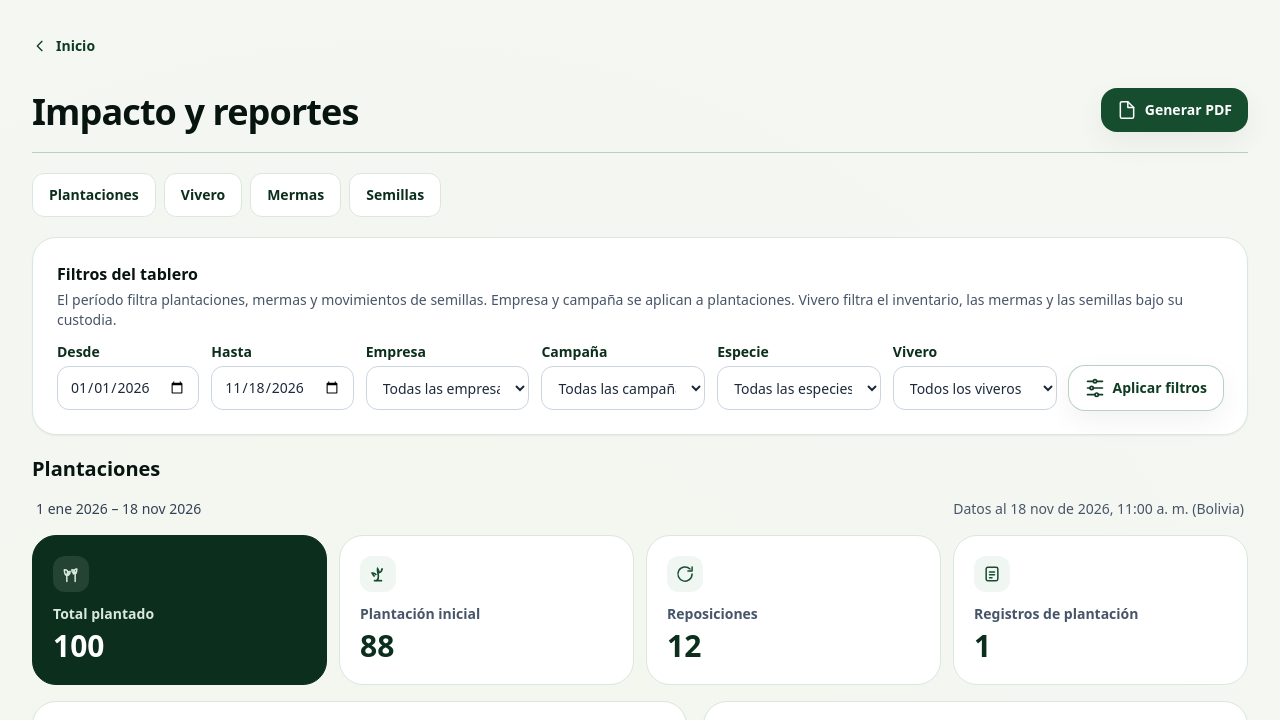
Test: Impacto y reportes de plantaciones › aplica período, vivero y especie a las consultas que corresponden
Type "2026-03-01" into the date field labelled "Desde" at (128, 388), box x1=57 y1=366 x2=199 y2=410
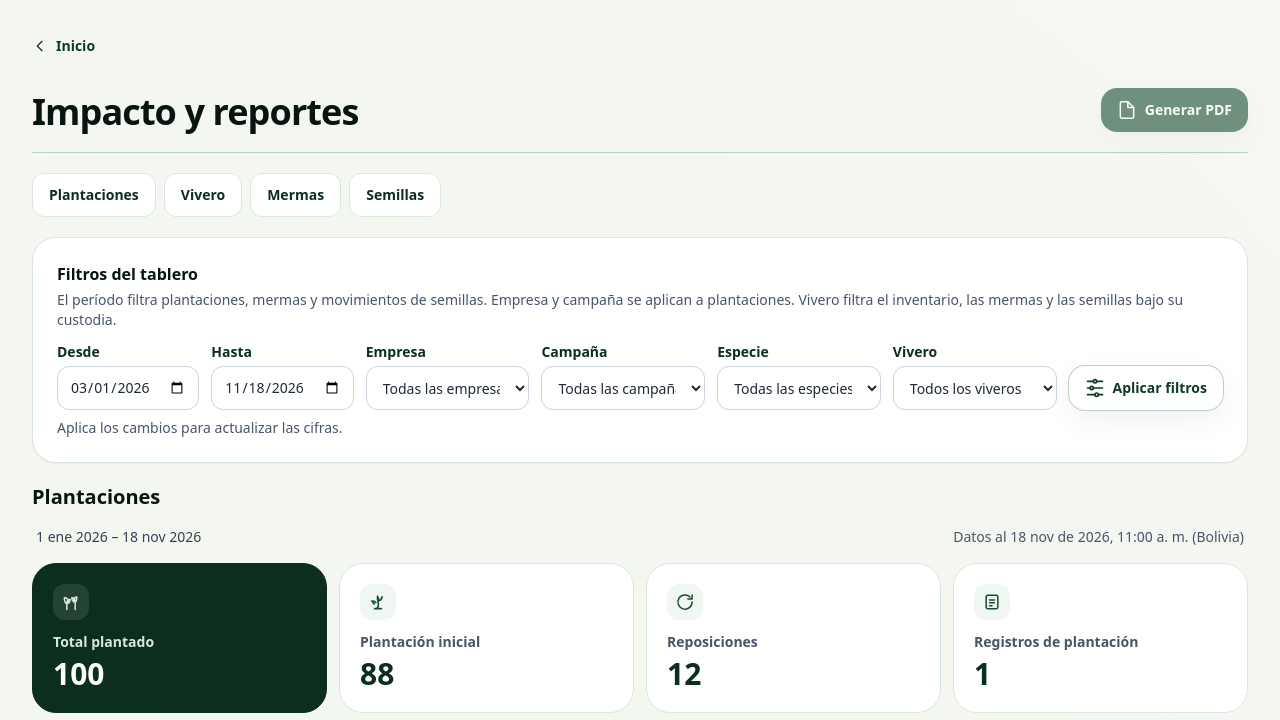
Click the button "Aplicar filtros" at (1146, 388), box x1=1068 y1=366 x2=1223 y2=410
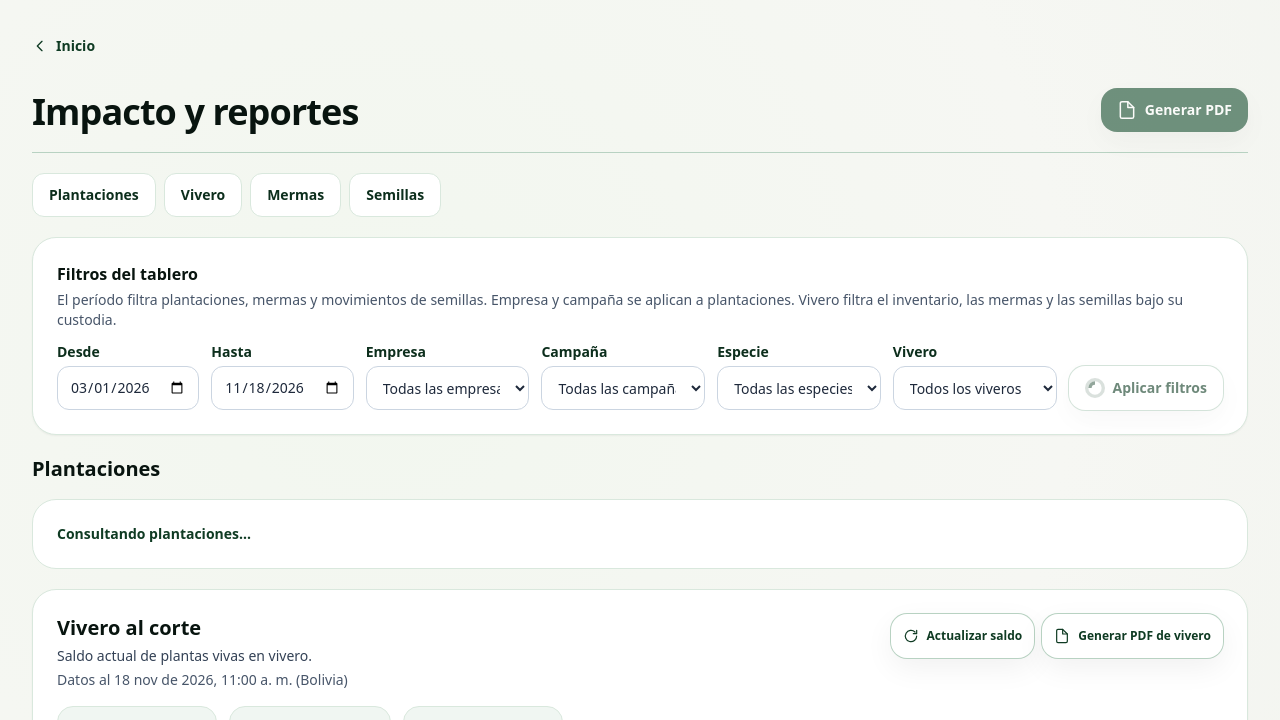
Select "Vivero Norte" in the dropdown labelled "Vivero" at (975, 388), box x1=893 y1=366 x2=1056 y2=410
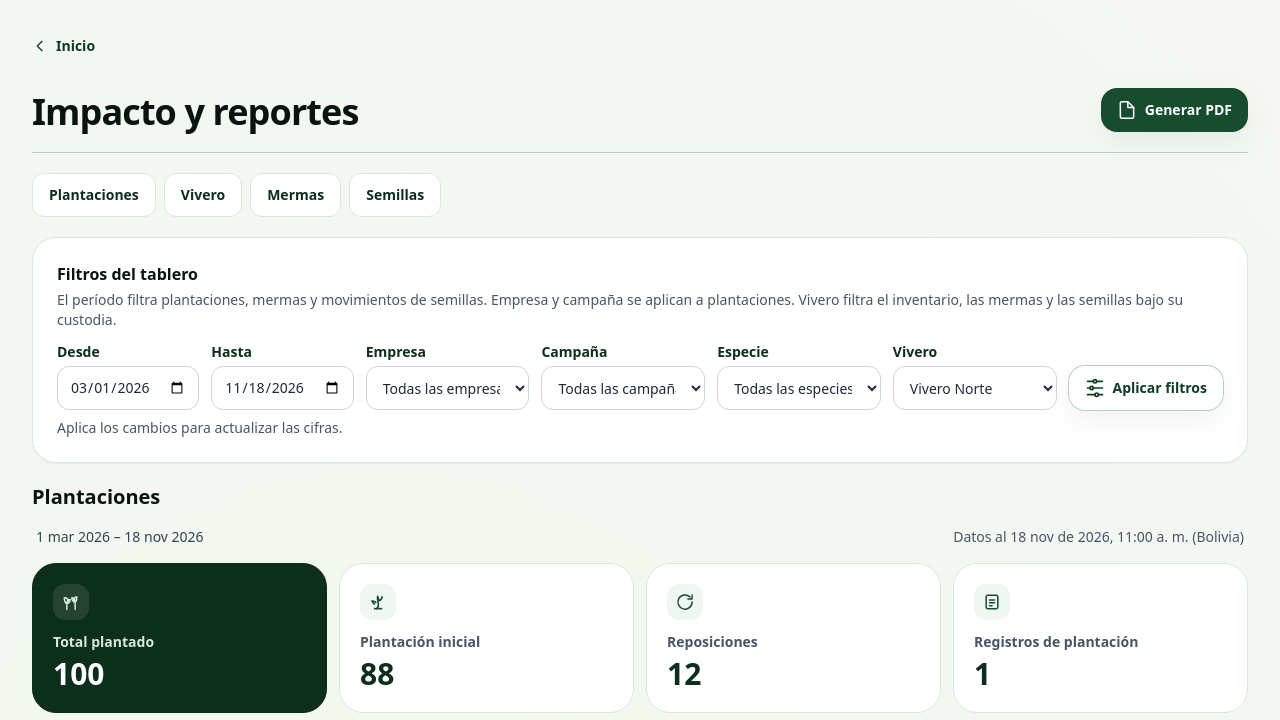
Click the button "Aplicar filtros" at (1146, 388), box x1=1068 y1=366 x2=1223 y2=410
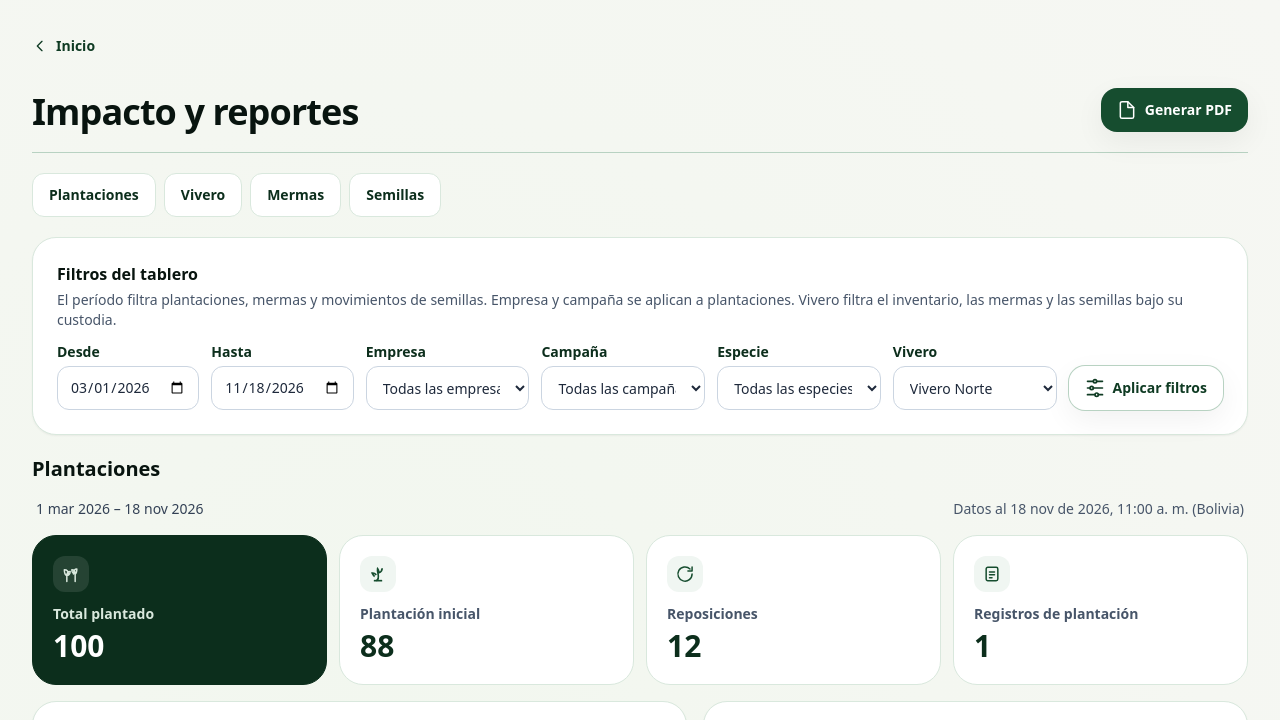
Select "Aliso" in the dropdown labelled "Especie" at (799, 388), box x1=717 y1=366 x2=881 y2=410
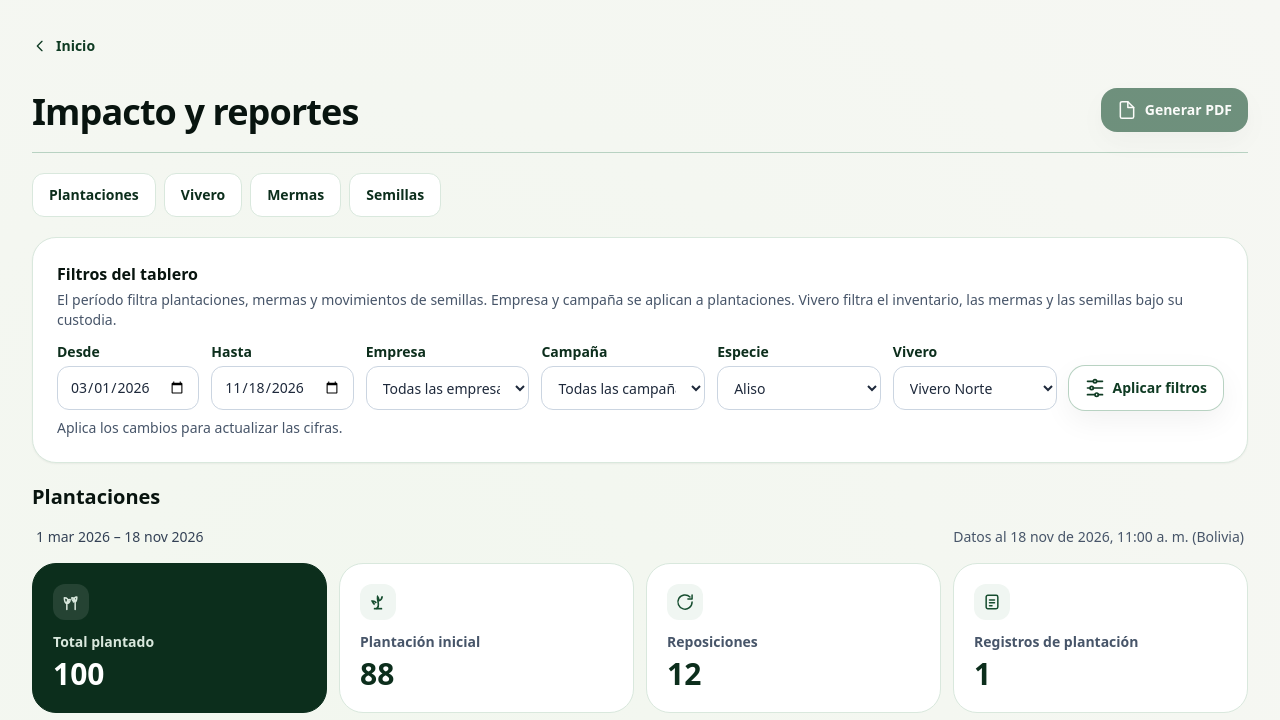
Click the button "Aplicar filtros" at (1146, 388), box x1=1068 y1=366 x2=1223 y2=410
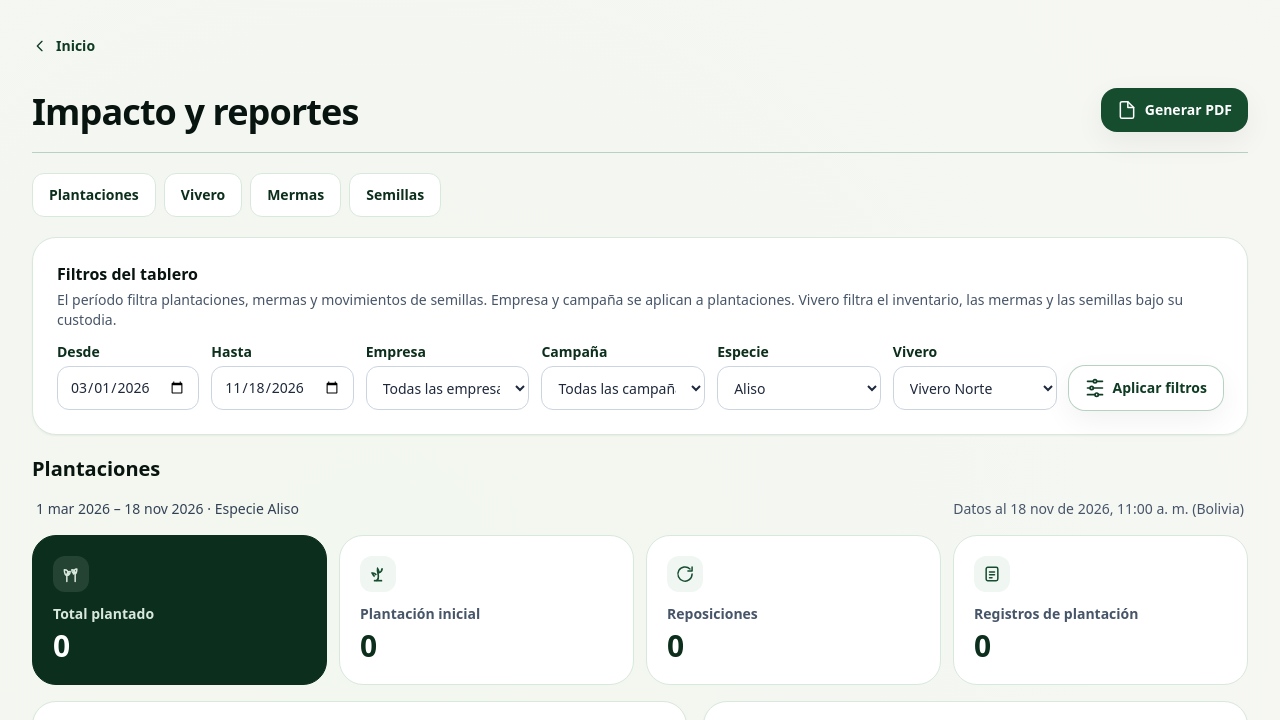
Check: the text "1 mar 2026 – 18 nov 2026 · Especie Aliso" is shown, box x1=36 y1=499 x2=299 y2=519
